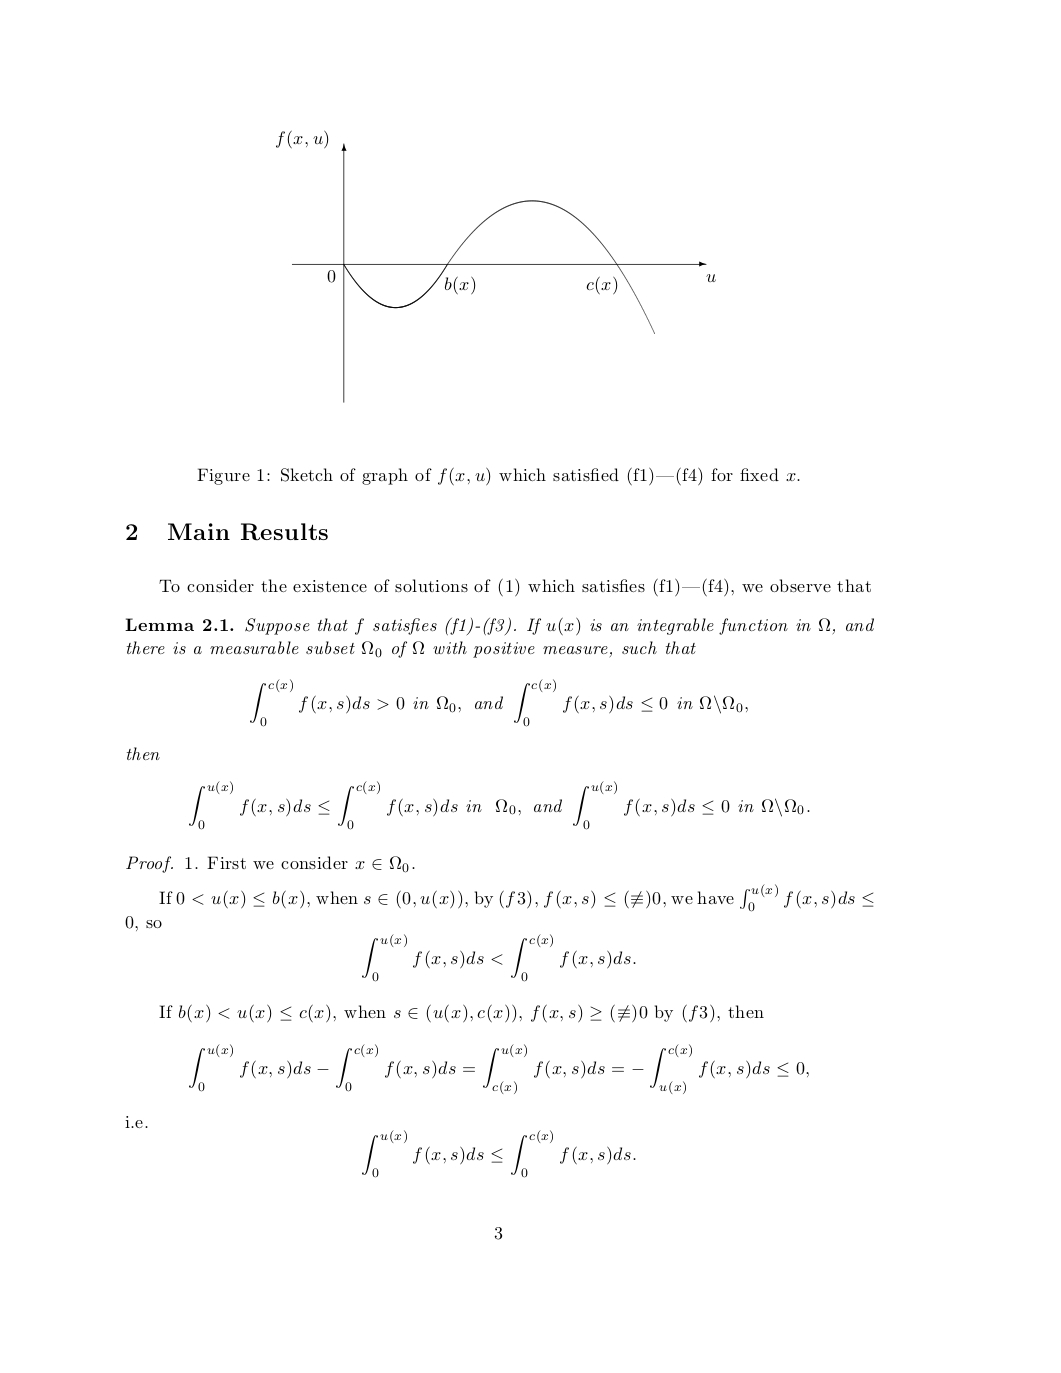figure: (276, 129, 716, 403)
formula: (125, 1114, 635, 1178), (189, 1043, 808, 1096), (189, 780, 809, 830), (250, 678, 747, 727), (362, 933, 635, 982)
